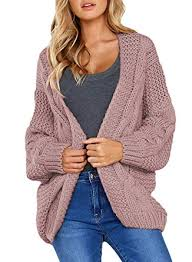C_cardigan sweater: (7, 32, 191, 240)
